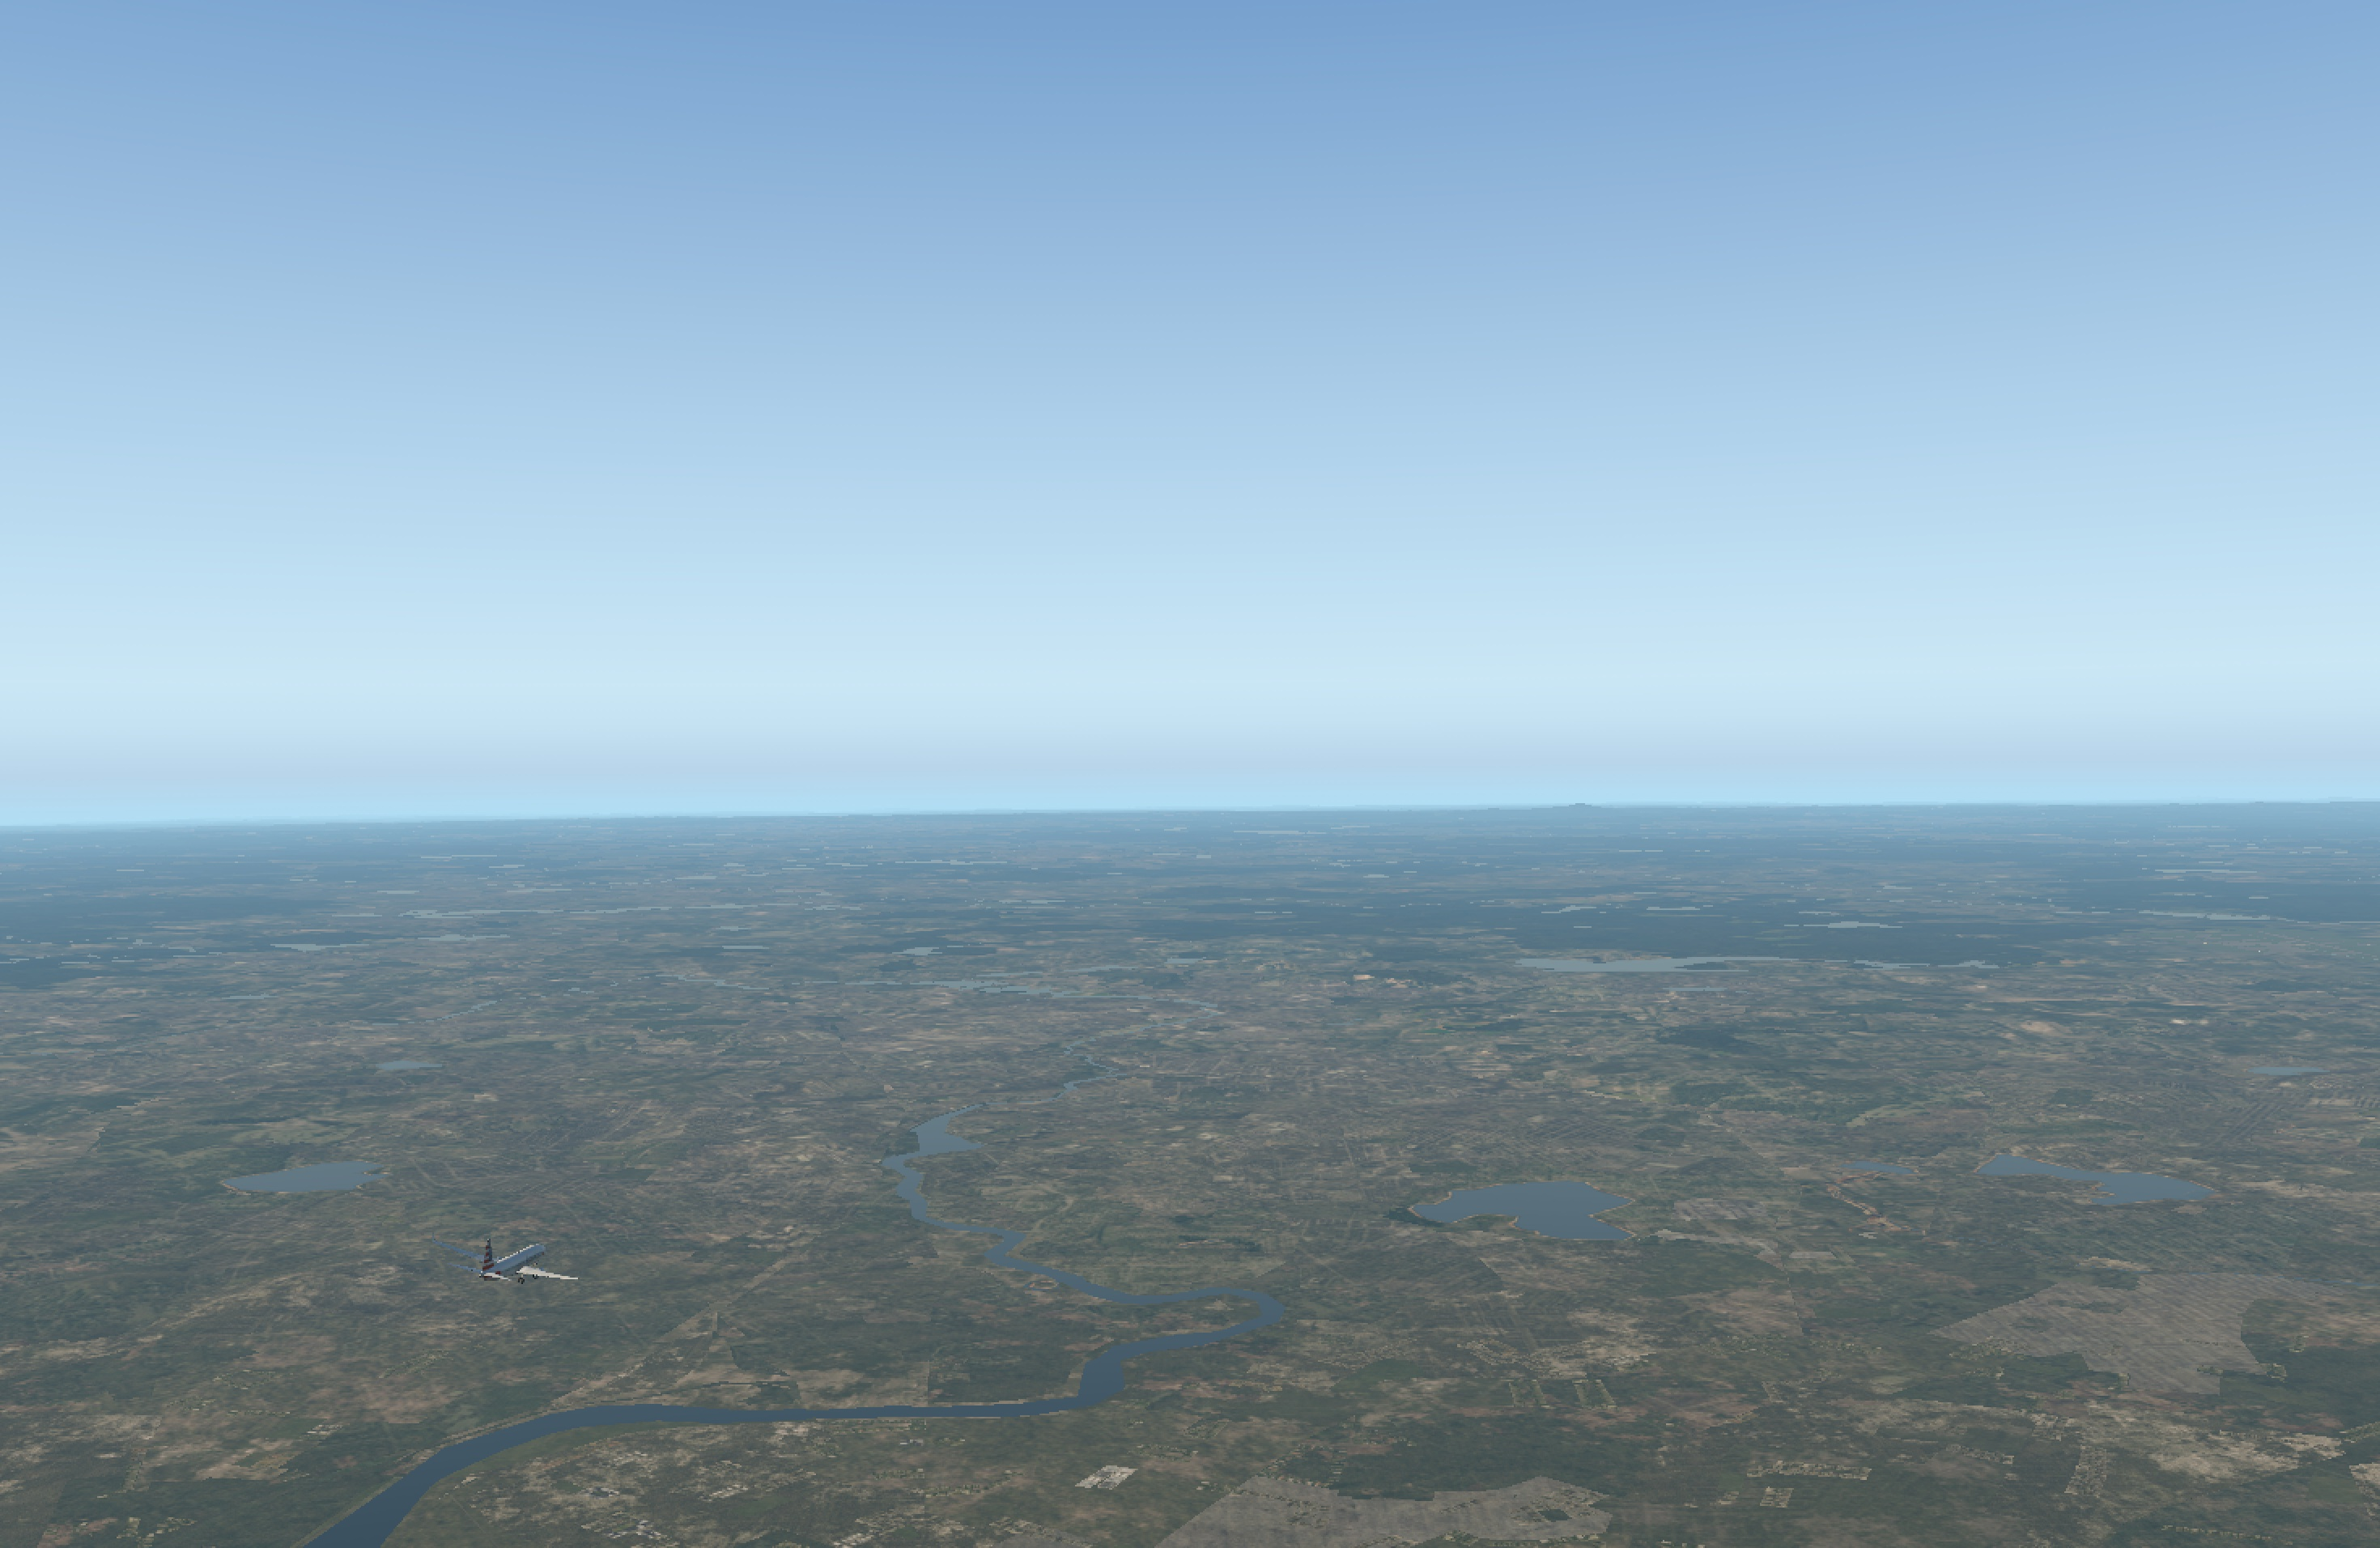aircraft: (434, 1236, 595, 1296)
